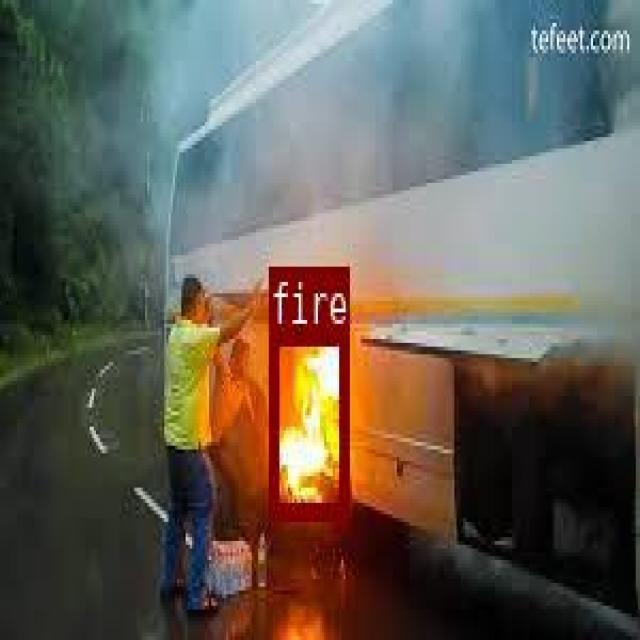fire: (267, 328, 346, 516)
